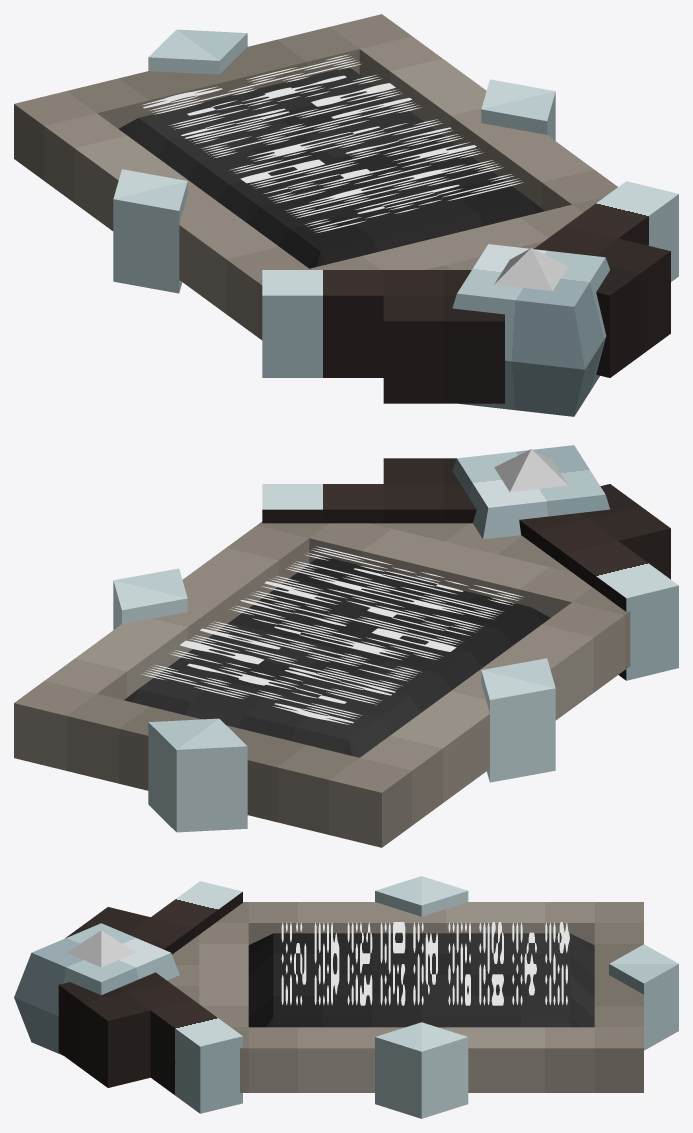
File: boss_trophy_council_slate.obj
3 renders of one model, top to bottom at view 1: azimuth 30°, elevation 25°; view 2: azimuth 150°, elevation 25°; view 3: azimuth 270°, elevation 25°, orthographic. The views are drawn at different scales.
Parts seen in each view (by area): view 1: SLATE_Cube.018; view 2: SLATE_Cube.018; view 3: SLATE_Cube.018.
Part boxes in pixels (<box>): SLATE_Cube.018: <box>14,14,678,416</box>; SLATE_Cube.018: <box>14,445,678,847</box>; SLATE_Cube.018: <box>14,876,678,1118</box>.
Size of the model in its own units: 0.5259 by 0.1562 by 0.8411.
